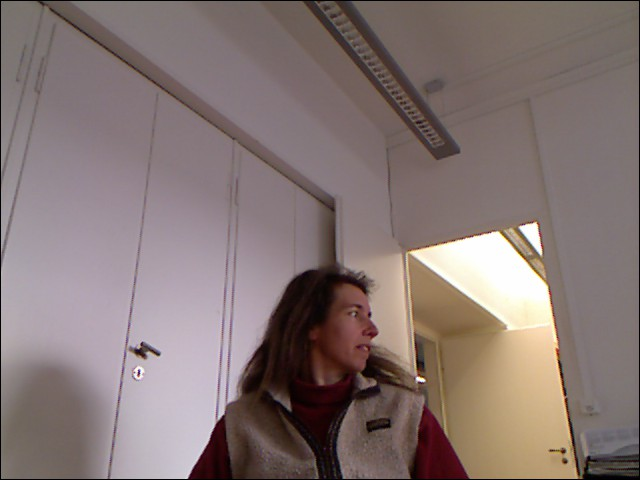deflection: (211, 268, 442, 454)
